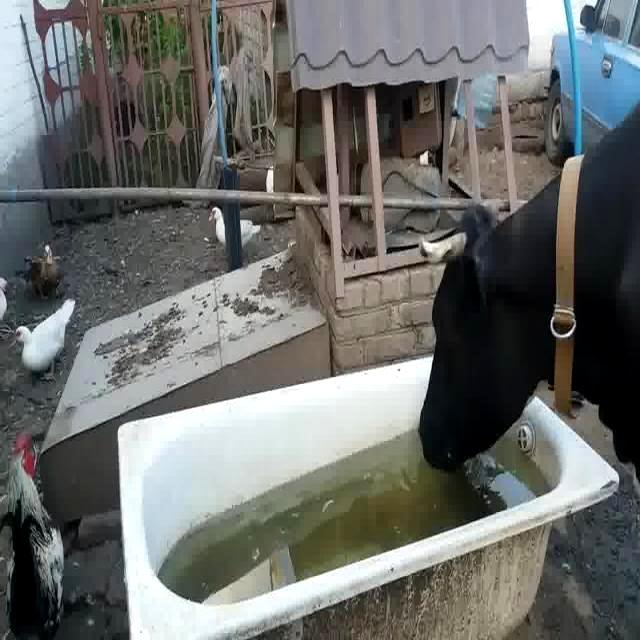COW: (419, 105, 640, 477)
